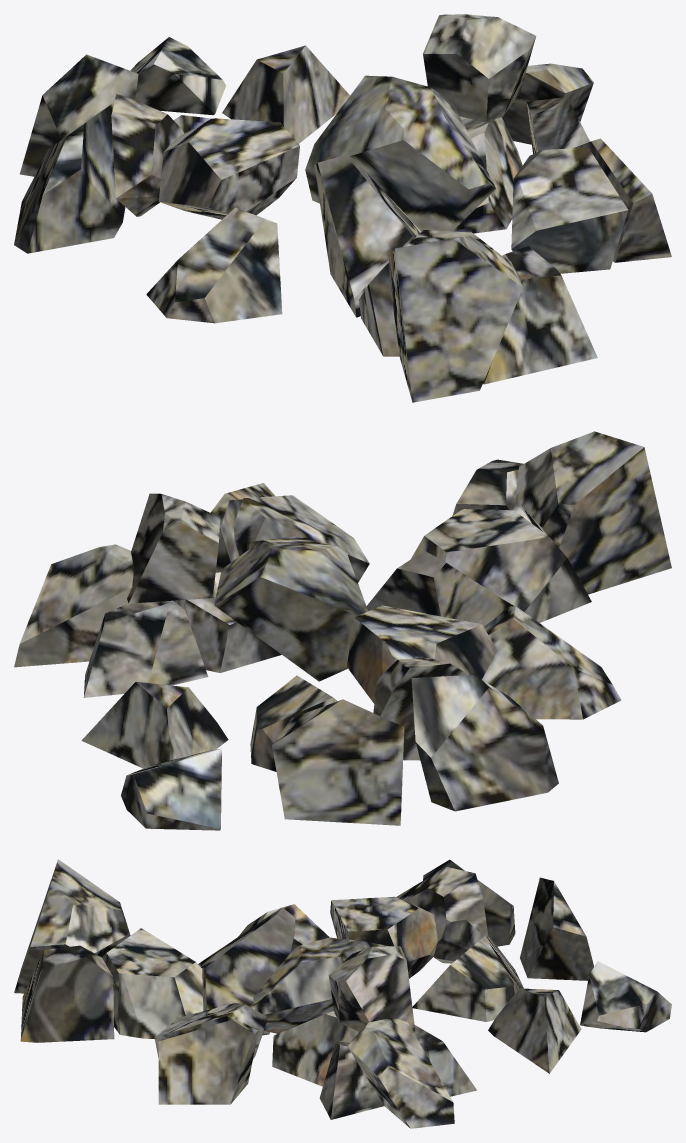
File: City_Object2.FBX
3 renders of one model, top to bottom at view 1: azimuth 30°, elevation 25°; view 2: azimuth 150°, elevation 25°; view 3: azimuth 270°, elevation 25°, orthographic. The views are drawn at different scales.
Visible parts, largest first — view 1: Box001_Part_6; view 2: Box001_Part_6; view 3: Box001_Part_6.
Boxes of the visible parts, left/top/right/bottom form: Box001_Part_6: left=14, top=14, right=671, bottom=402; Box001_Part_6: left=14, top=431, right=671, bottom=830; Box001_Part_6: left=14, top=859, right=671, bottom=1128.
Bounding box in the file's own units: 444 × 124 × 574.
1 material, 1 textured.
